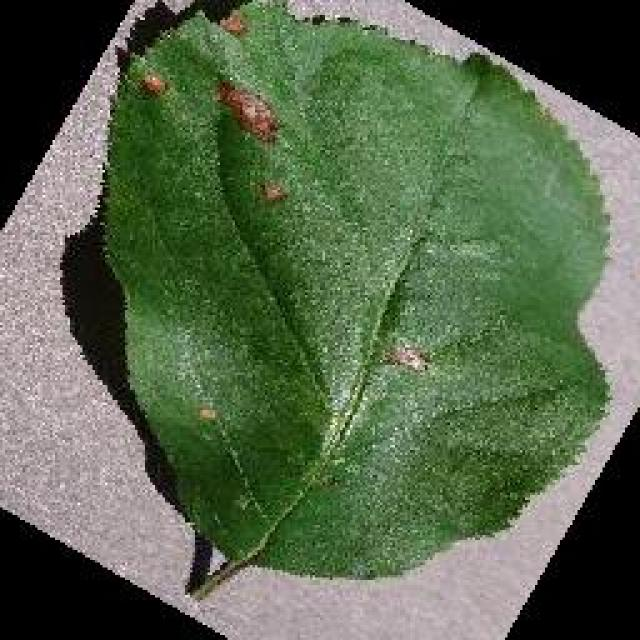Black_rot: (95, 0, 615, 600)
